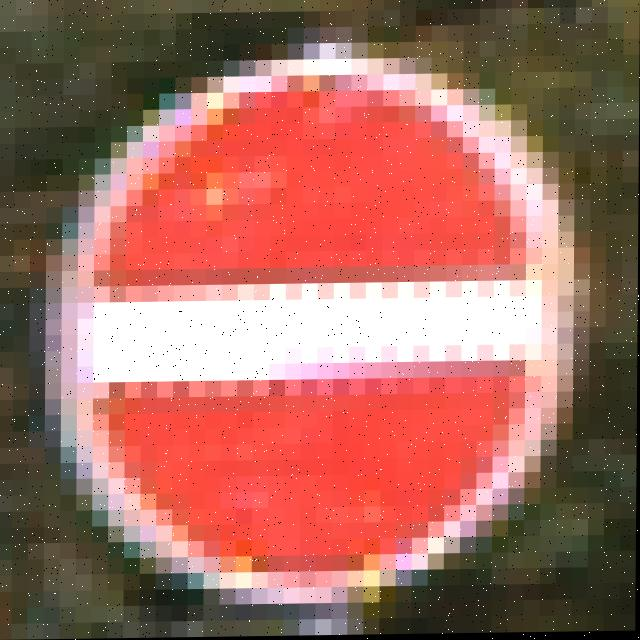road_rough: (29, 69, 606, 576)
